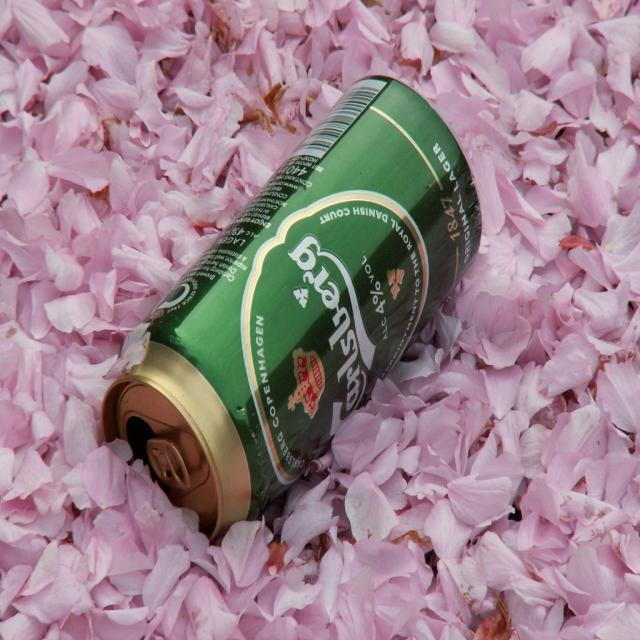carlsberg: (238, 189, 433, 491)
